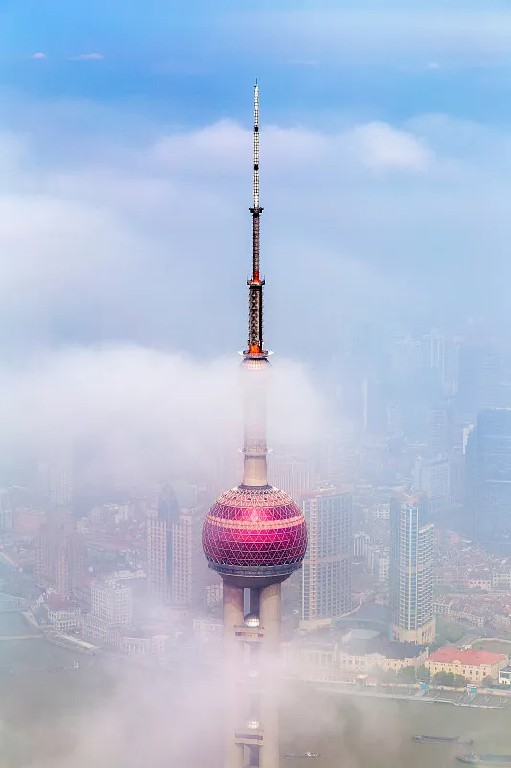Oriental: (201, 81, 307, 768)
